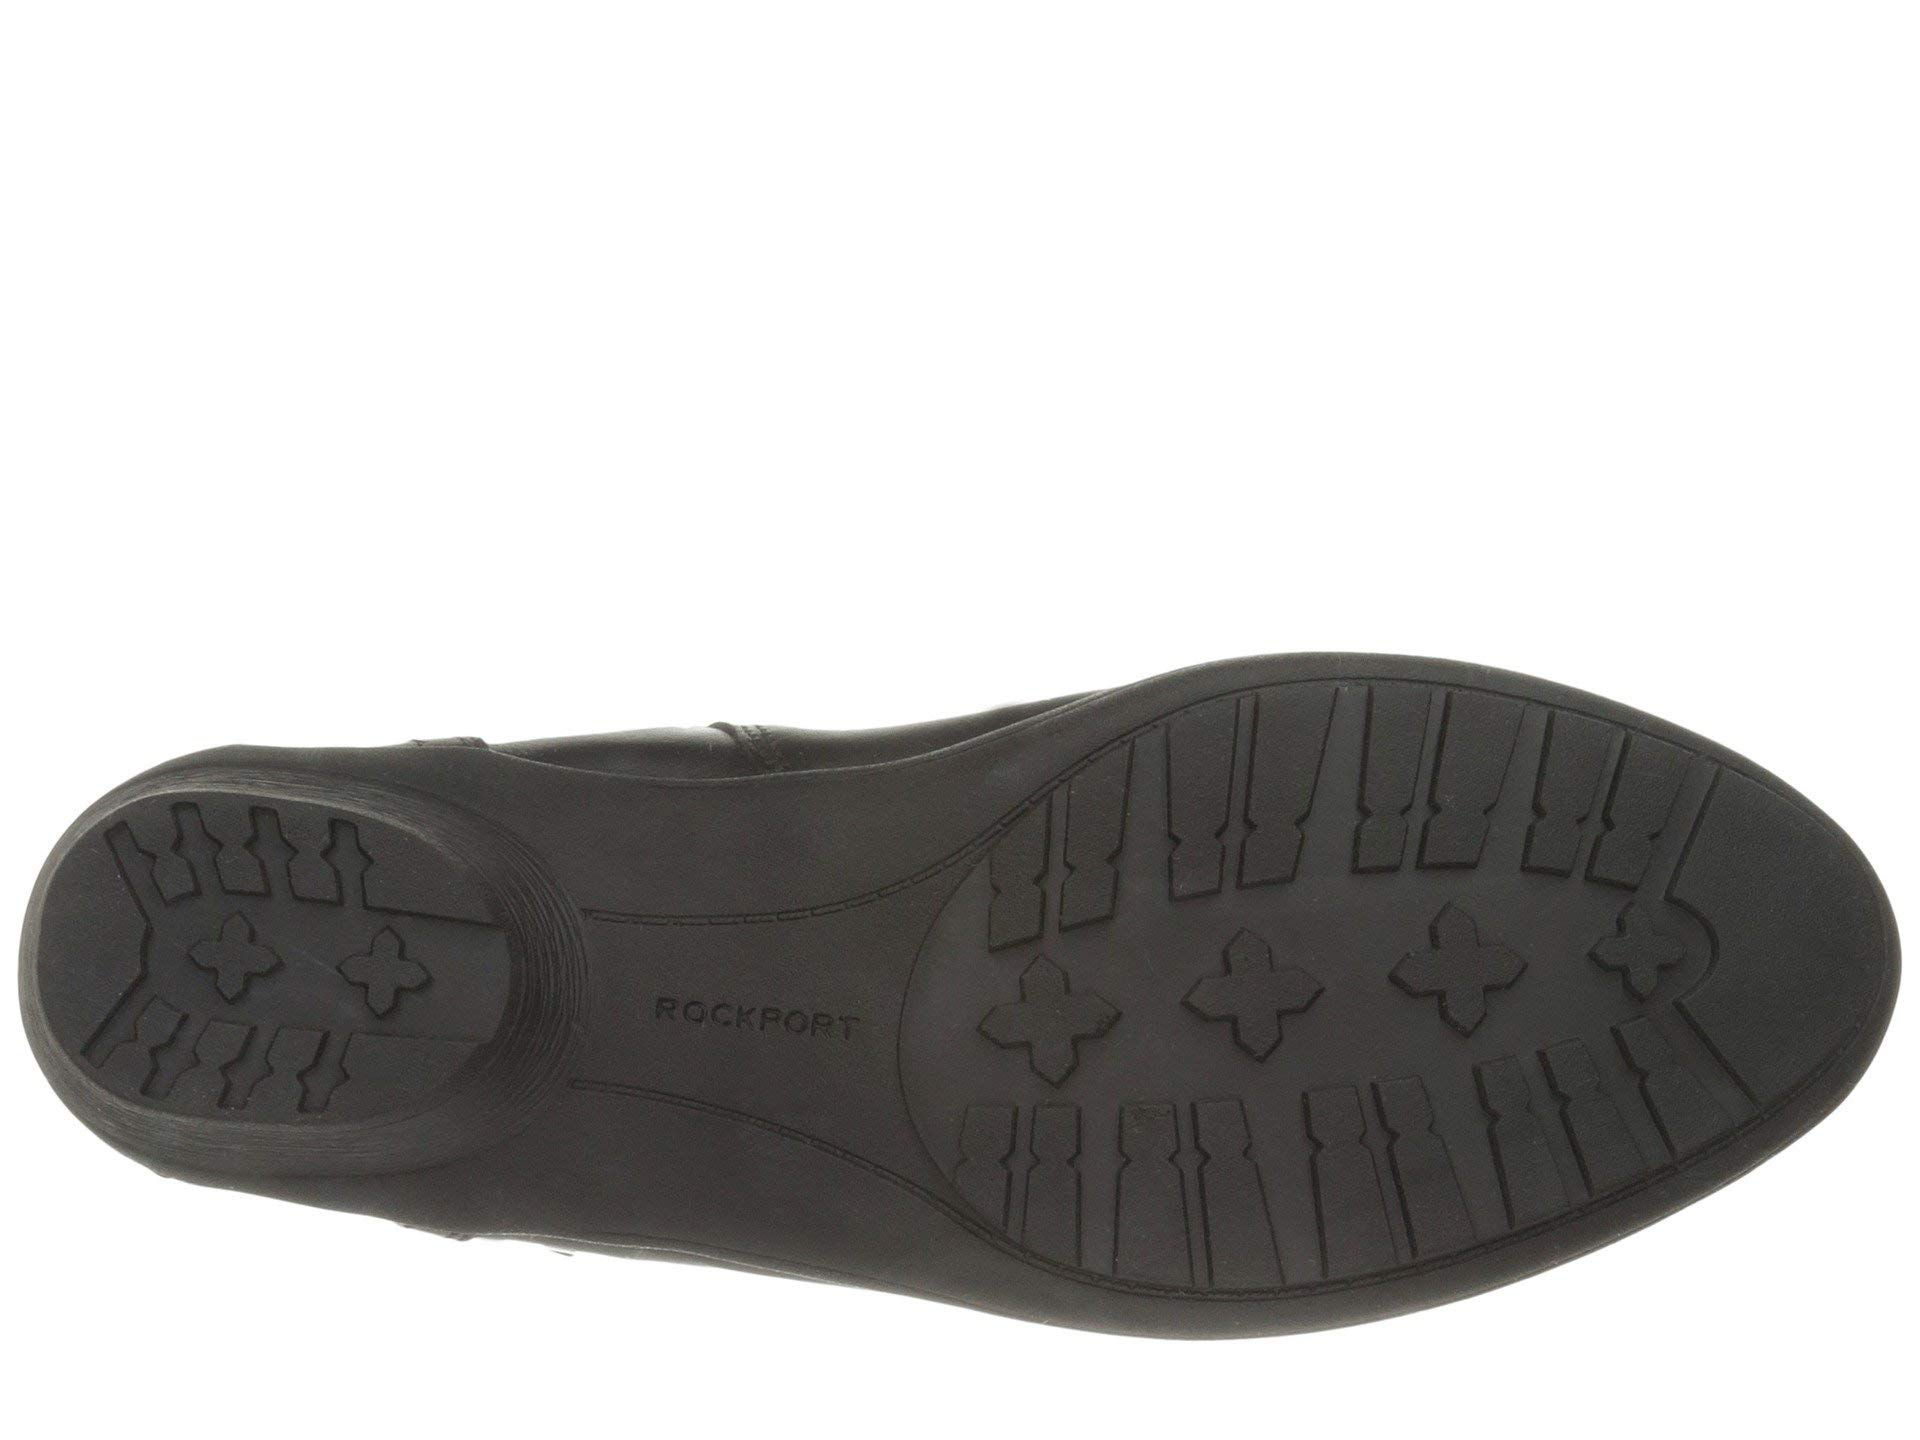bowtie: (1293, 646, 1689, 1053)
star: (1293, 646, 1689, 1053), (965, 894, 1185, 1094)
